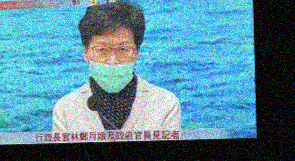mask_weared_incorrect: (87, 38, 137, 94)
